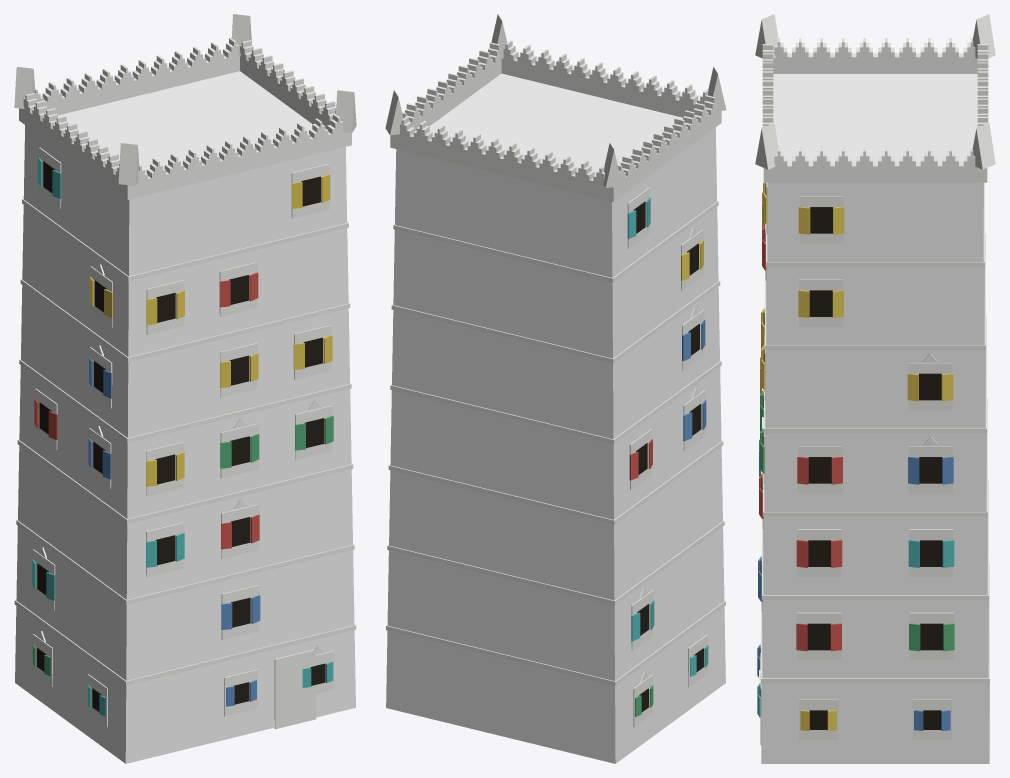
File: SM_RijalAlmaaHouse_03.fbx
3 views of the same model, side by side, from view 1: azimuth 30°, elevation 25°; view 2: azimuth 150°, elevation 25°; view 3: azimuth 270°, elevation 25° (orthographic). The views are drawn at different scales.
Visible parts, largest first — view 1: SM_RijalAlmaaHouse_03; view 2: SM_RijalAlmaaHouse_03; view 3: SM_RijalAlmaaHouse_03.
Boxes of the visible parts, x1,y1,x2,y2 form: SM_RijalAlmaaHouse_03: (14,14,356,763); SM_RijalAlmaaHouse_03: (385,14,726,763); SM_RijalAlmaaHouse_03: (755,14,995,763).
Bounding box in the file's own units: 931 × 2305 × 790.
